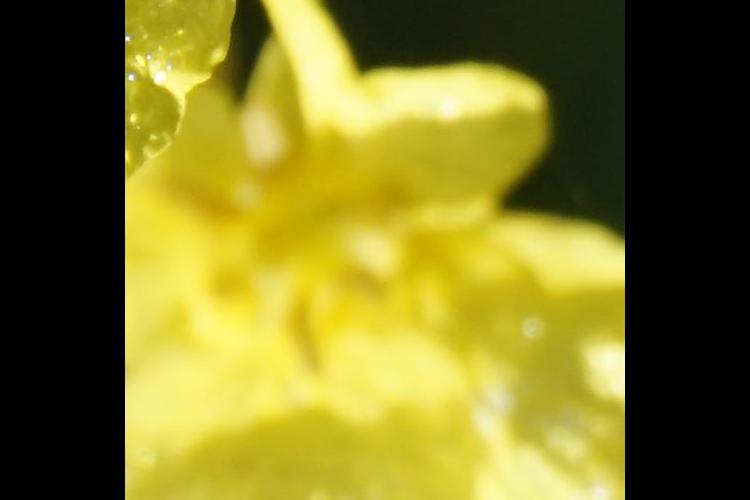yellow: (157, 36, 612, 500), (134, 1, 233, 167)
